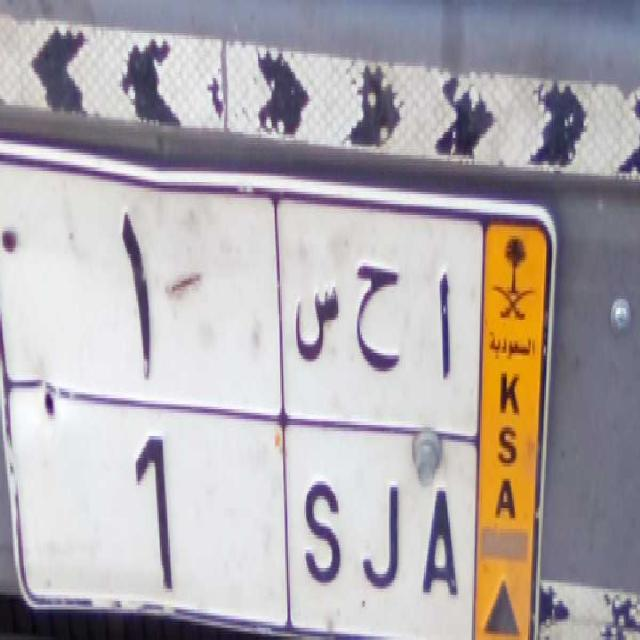license_plate: (6, 387, 474, 640)
